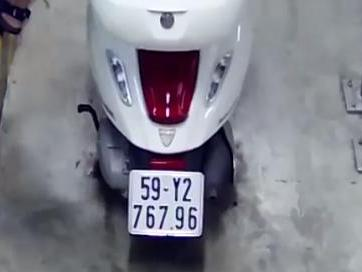num_plate: (128, 169, 205, 237)
